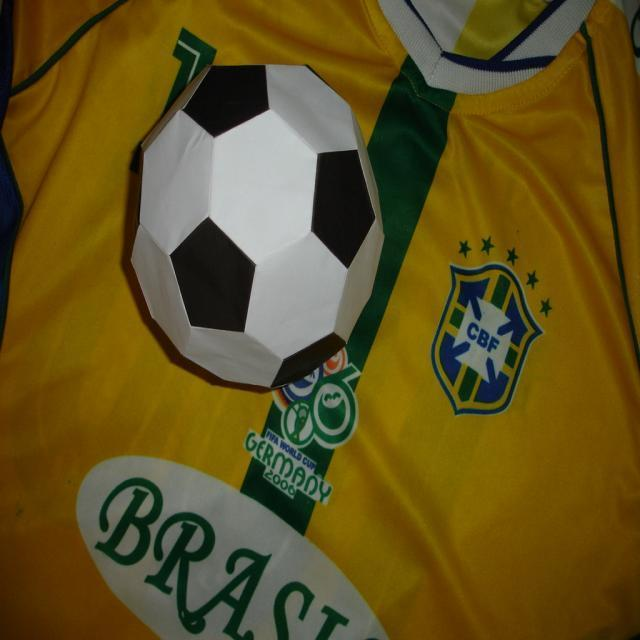football: (134, 51, 391, 397)
